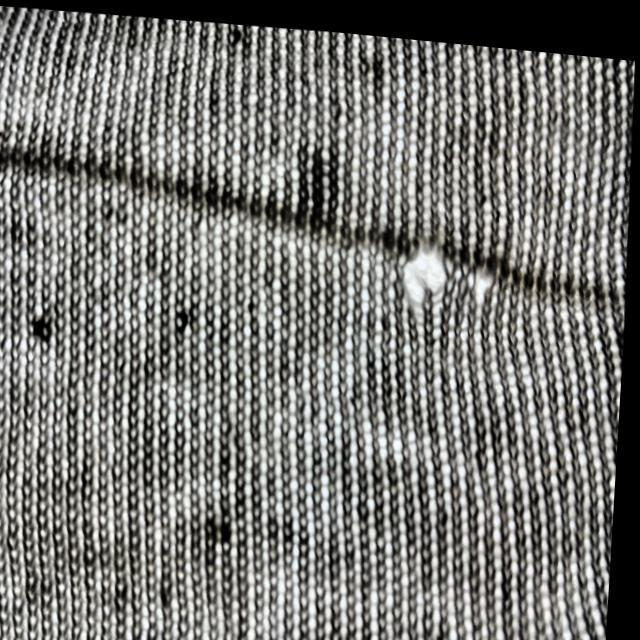Hole: (292, 142, 356, 218), (397, 234, 461, 307), (465, 245, 502, 298)
